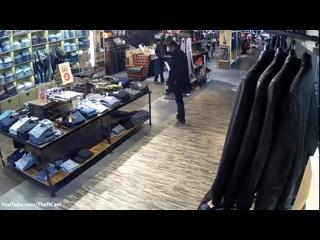Normal: (164, 40, 190, 126)
